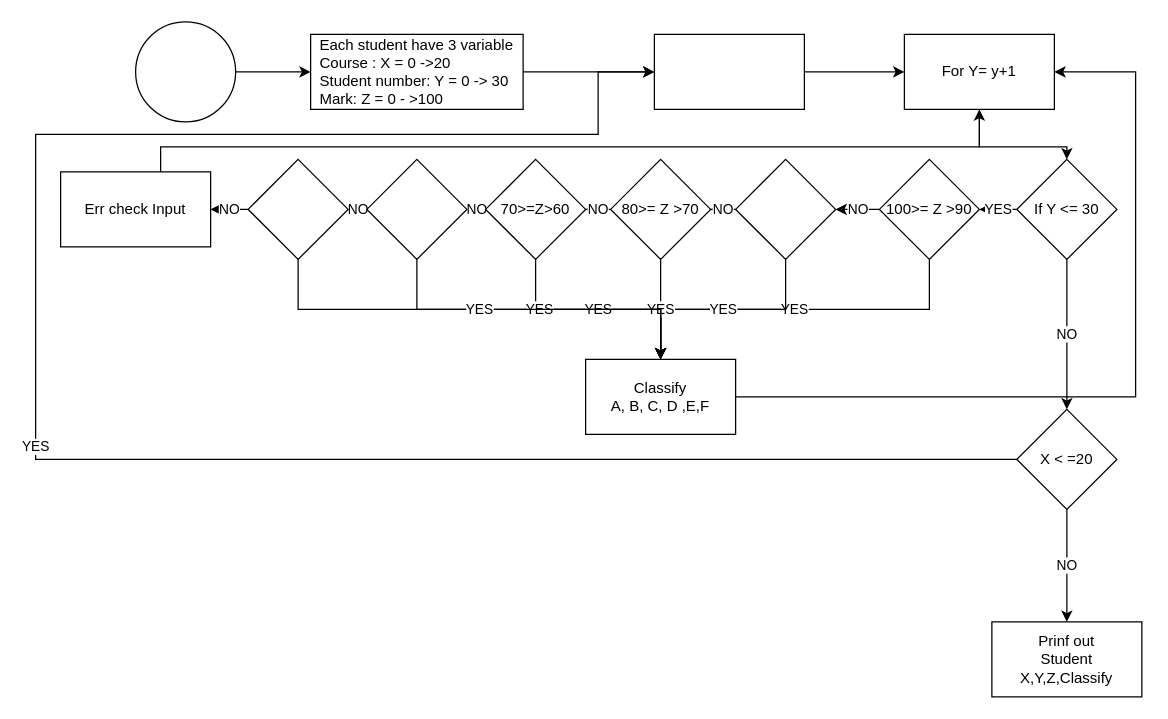
This 1168x719 diagram has some shape labels left out. The shapes that lost their labels are listed below. From the top down, each one's centre as x and y in pixels, then its label:
At point 185,71: "Input".
At point 728,71: "For X = X+1".
At point 297,208: "50>=Z>0".
At point 416,208: "60>=Z>50".
At point 785,208: "90>= Z >80".
